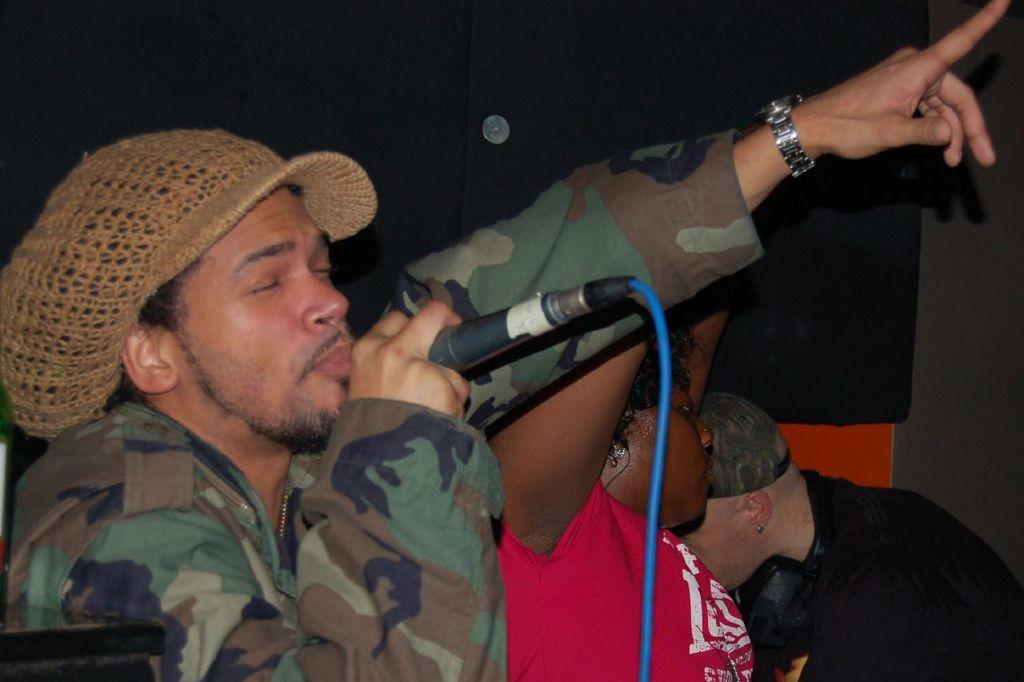Hat: (0, 127, 380, 444), (704, 393, 792, 496)
